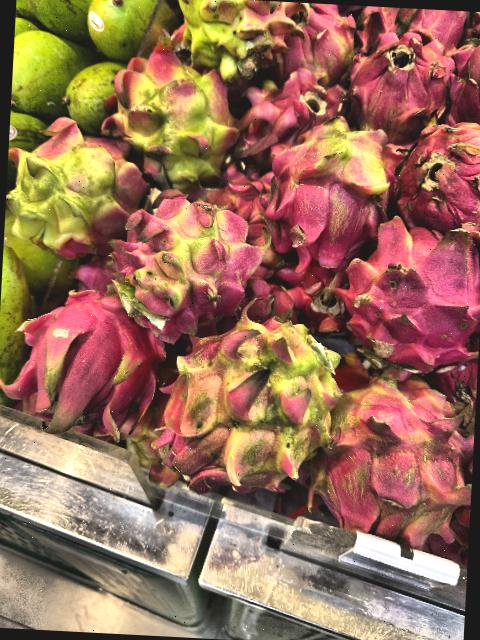buah-naga-belum-matang: (158, 311, 346, 500), (326, 370, 471, 557), (108, 181, 268, 327), (4, 117, 151, 256), (96, 48, 244, 184), (276, 112, 388, 268), (164, 0, 309, 86), (272, 1, 357, 86)
buah-naga-matang: (0, 278, 166, 455), (355, 213, 480, 379), (339, 21, 453, 137), (240, 66, 355, 177), (391, 116, 480, 233)
